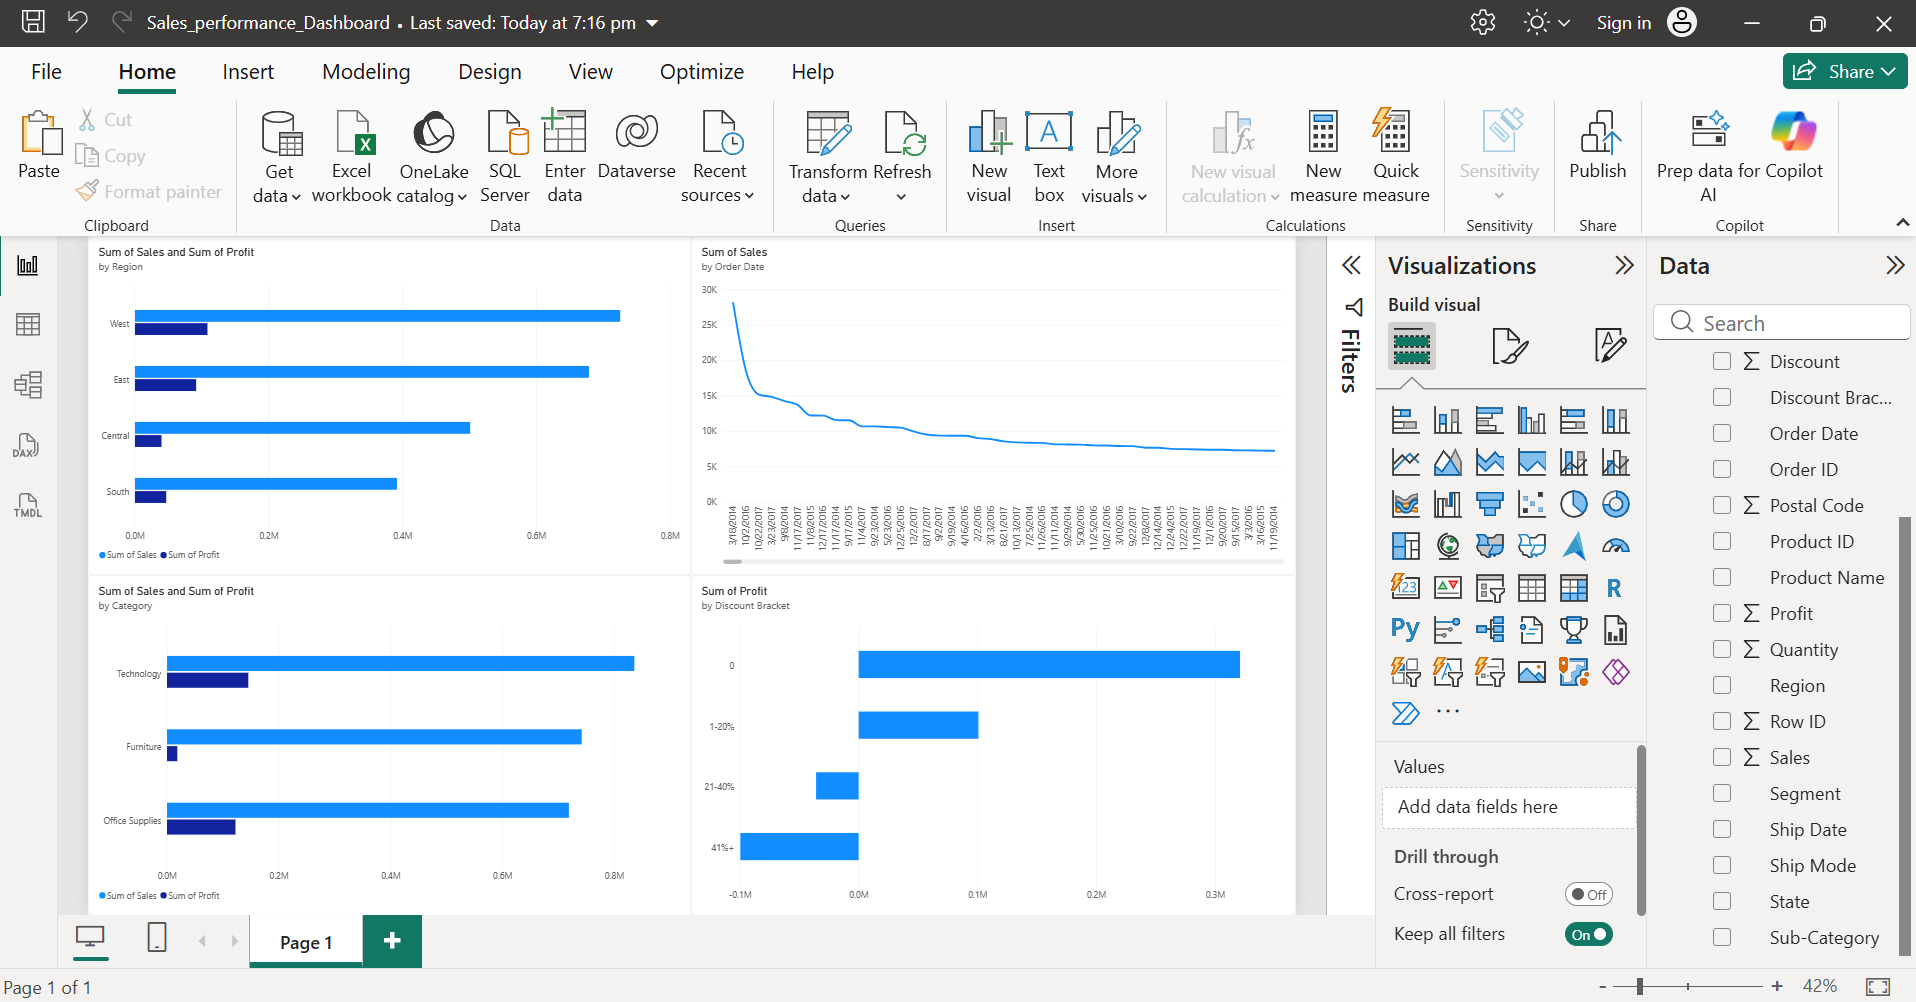

This screenshot's page, from the dashboard's own definition file:
{"tool":"powerbi","page":{"name":"Page 1","canvas":[1920,1080],"ordinal":0},"visuals":[{"type":"clusteredBarChart","fields":{"Category":["superstore_data.Region"],"Y":["Sum(superstore_data.Sales)","Sum(superstore_data.Profit)"]},"box":[0,0,959.1,539.2],"z":0},{"type":"lineChart","fields":{"Category":["superstore_data.Order Date"],"Y":["Sum(superstore_data.Sales)"]},"box":[959.1,0,961.5,539.2],"z":1},{"type":"clusteredBarChart","fields":{"Category":["superstore_data.Discount Bracket"],"Y":["Sum(superstore_data.Profit)"]},"box":[959.1,539.2,961.5,541.6],"z":2},{"type":"clusteredBarChart","fields":{"Category":["superstore_data.Category"],"Y":["Sum(superstore_data.Sales)","Sum(superstore_data.Profit)"]},"box":[0,539.2,959.1,541.6],"z":3}]}

Visuals, with their boxes on the page's 1920x1080 design canvas (x1, y1, x2, y2). These are canvas units, not pixel positions in the 1916x1002 screenshot, which may show the page scaled, cropped or inside an application window:
clusteredBarChart - superstore_data.Region x Sum(superstore_data.Sales): box(0, 0, 959, 539)
lineChart - superstore_data.Order Date x Sum(superstore_data.Sales): box(959, 0, 1921, 539)
clusteredBarChart - superstore_data.Discount Bracket x Sum(superstore_data.Profit): box(959, 539, 1921, 1081)
clusteredBarChart - superstore_data.Category x Sum(superstore_data.Sales): box(0, 539, 959, 1081)
